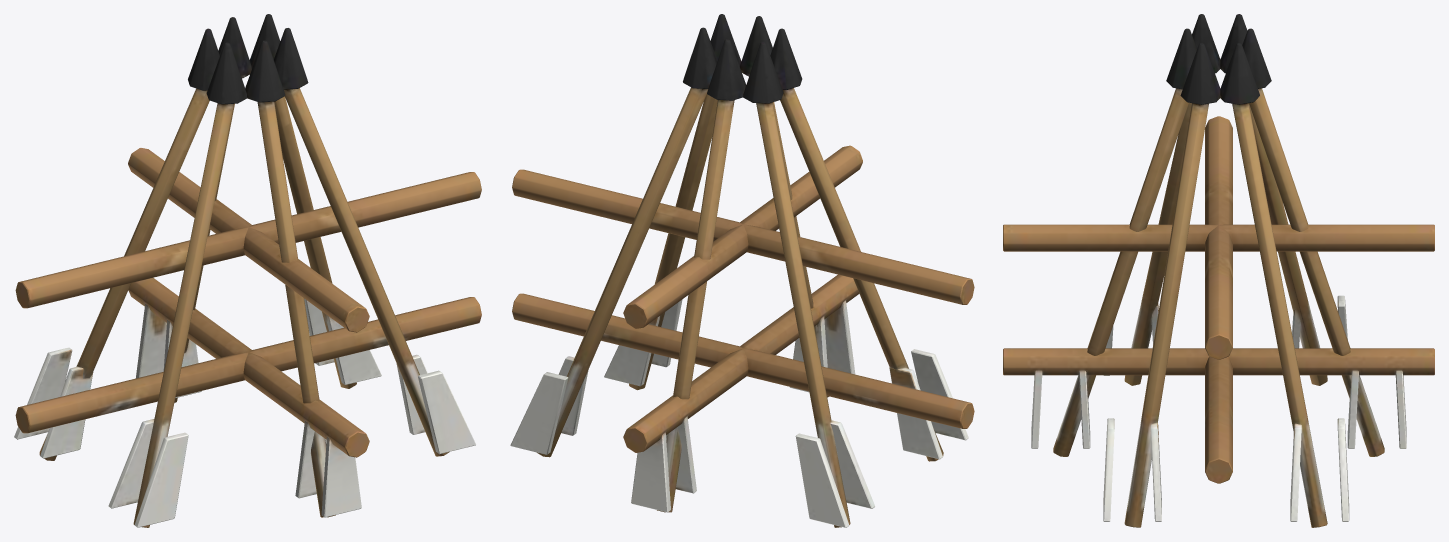
The model's file is IT_arrow_bundle.glb.
The picture shows the model from 3 angles, left to right: view 1: azimuth 30°, elevation 25°; view 2: azimuth 150°, elevation 25°; view 3: azimuth 270°, elevation 25°; orthographic projection.
Parts seen in each view (by area): view 1: IT_arrow_bundle; view 2: IT_arrow_bundle; view 3: IT_arrow_bundle.
Part boxes in pixels (x1,y1,x2,y2): IT_arrow_bundle: (14, 14, 481, 527); IT_arrow_bundle: (510, 14, 974, 527); IT_arrow_bundle: (1003, 14, 1434, 527).
Size of the model in its own units: 0.72 by 0.6537 by 0.6.
1 material, 1 textured.
